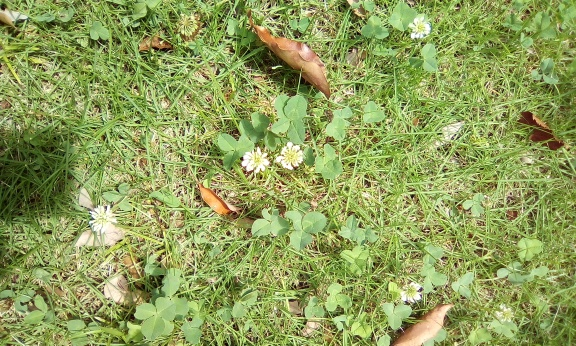4leaf: (270, 94, 308, 145)
